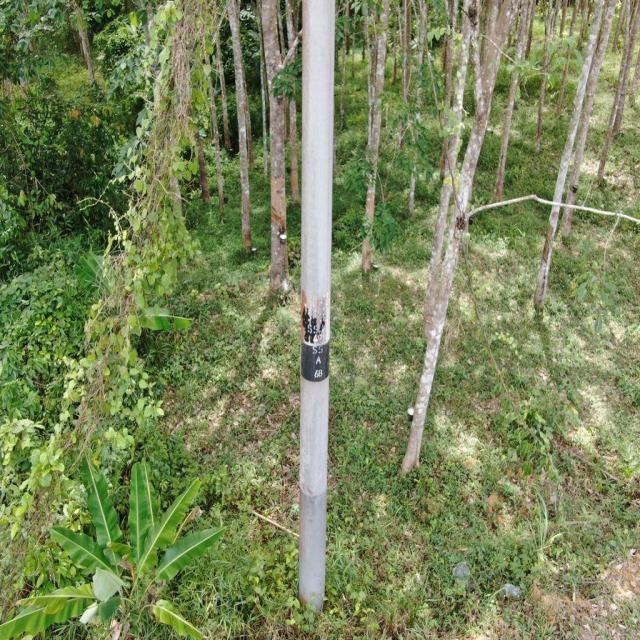critical vegetation: (12, 19, 212, 544)
